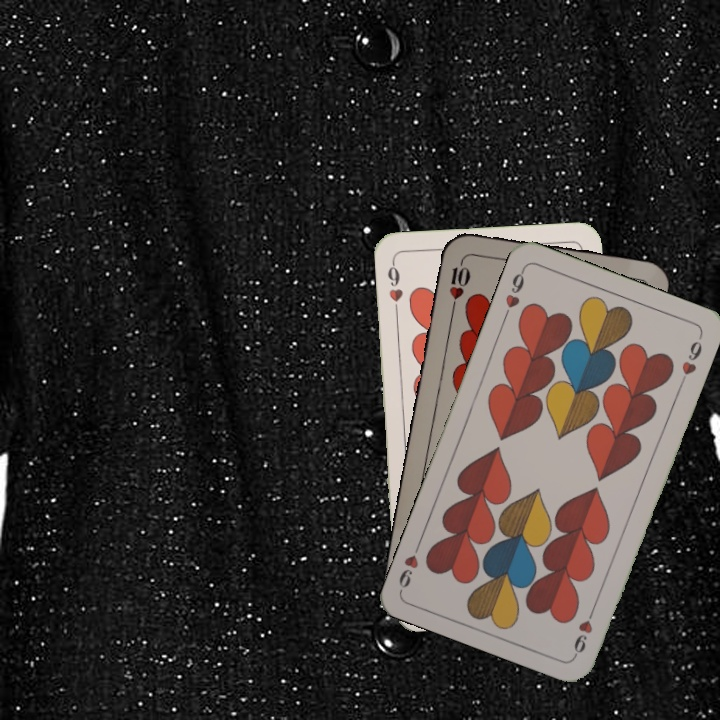H10: (445, 253, 473, 312)
H9: (569, 601, 599, 658), (499, 264, 528, 321), (383, 257, 405, 316)
